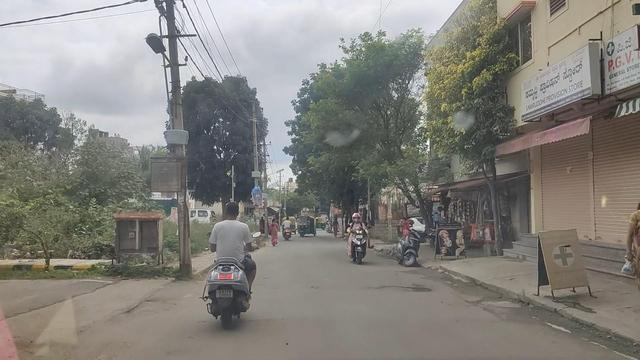LMV: (204, 196, 257, 333), (336, 204, 378, 269), (391, 220, 422, 267)
RoadDamages: (364, 271, 432, 303), (468, 293, 526, 321)
